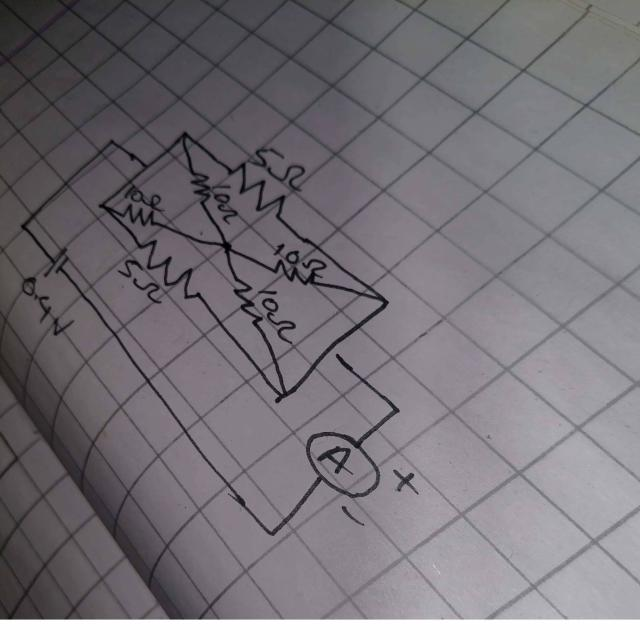junction: (262, 525, 280, 544), (324, 344, 341, 362), (388, 400, 405, 418), (94, 198, 109, 214), (274, 388, 289, 404), (16, 218, 30, 234), (106, 135, 120, 151), (141, 160, 155, 176), (179, 126, 193, 142), (219, 239, 233, 255), (378, 295, 392, 311)
resistor: (137, 240, 201, 306), (223, 158, 286, 222), (230, 274, 264, 328), (269, 258, 317, 288), (188, 168, 212, 206), (122, 203, 155, 228)
source: (41, 246, 71, 280)
text: (20, 276, 76, 339), (247, 145, 307, 194), (255, 287, 297, 348), (115, 258, 164, 306), (274, 241, 327, 280), (122, 184, 166, 214), (211, 180, 238, 227)
